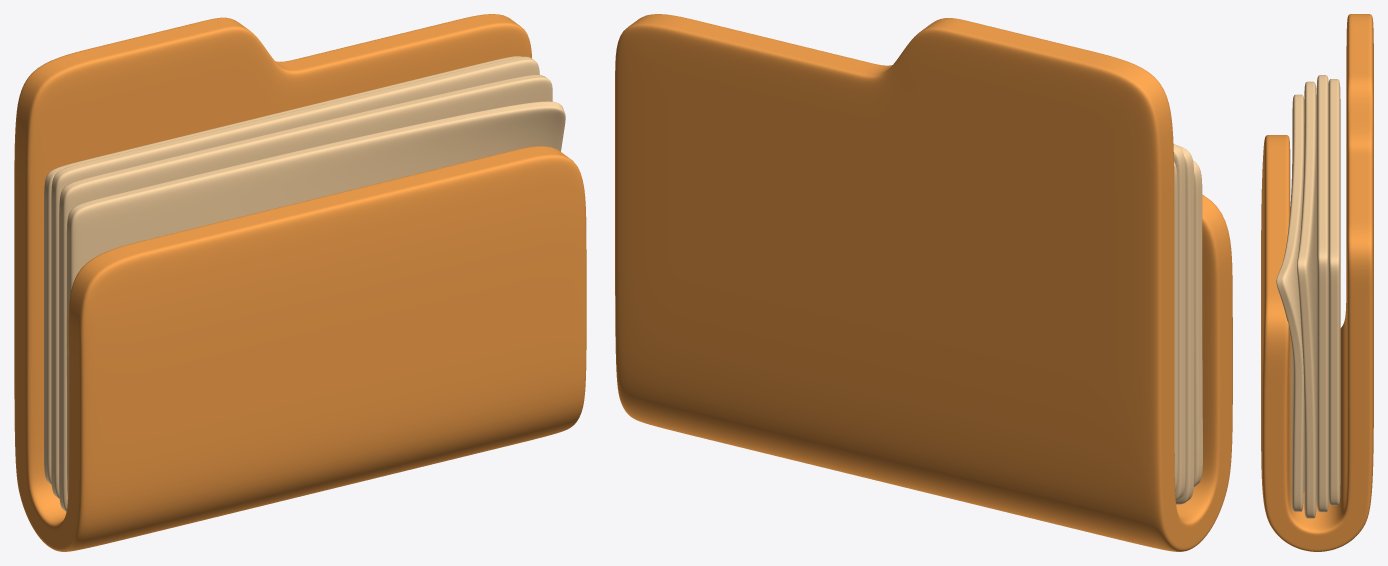
File: folder.fbx
The picture shows the model from 3 angles, left to right: view 1: azimuth 30°, elevation 25°; view 2: azimuth 150°, elevation 25°; view 3: azimuth 270°, elevation 25°; orthographic projection. The views are drawn at different scales.
Parts seen in each view (by area): view 1: Folder; view 2: Folder; view 3: Folder.
Boxes of the visible parts, <box> form: Folder: <box>14,14,586,551</box>; Folder: <box>615,14,1232,551</box>; Folder: <box>1261,14,1373,551</box>.
Bounding box in the file's own units: 190 × 165 × 46.69.
